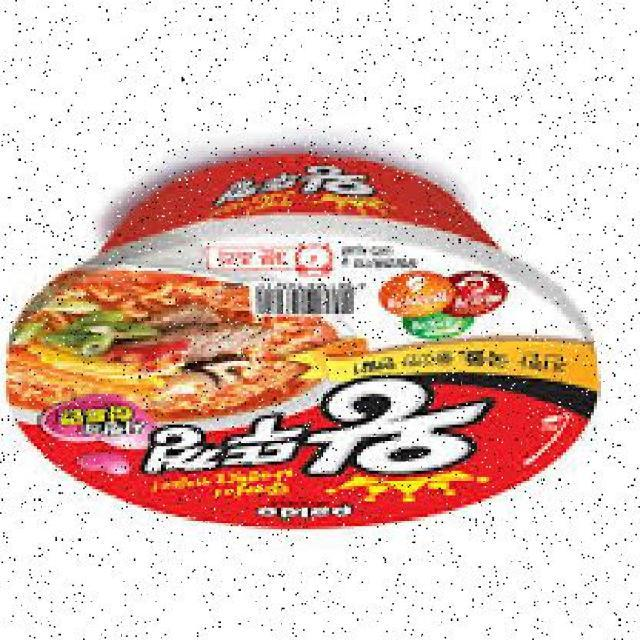Miscellaneous: (0, 138, 631, 542)
